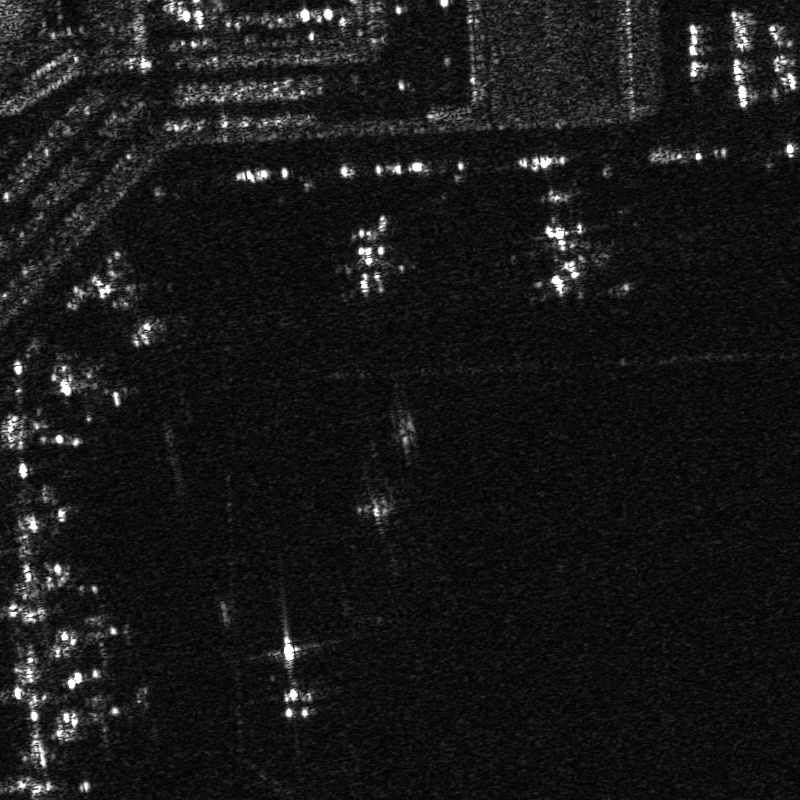A220: (63, 676, 157, 751), (87, 278, 178, 348), (53, 357, 139, 426), (56, 598, 141, 664)
Boeing737: (233, 633, 363, 723), (323, 209, 419, 303)
other: (507, 182, 626, 300), (352, 478, 414, 537)
